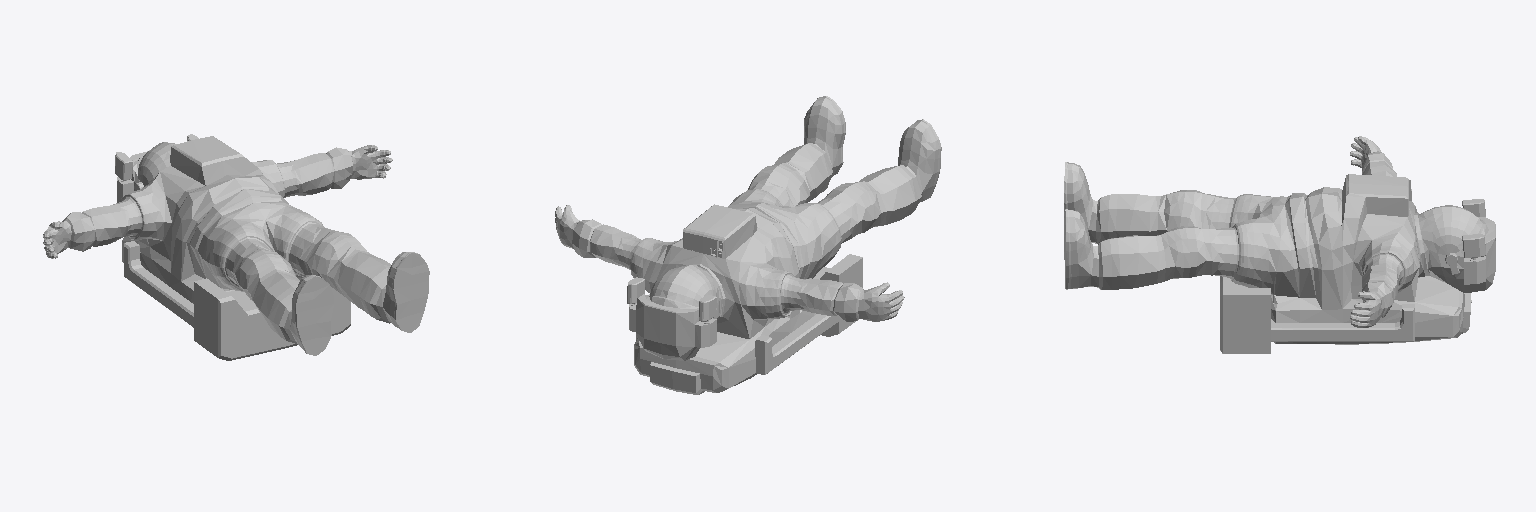
The model's file is astronaut.obj.
3 renders of one model, left to right at view 1: azimuth 30°, elevation 25°; view 2: azimuth 150°, elevation 25°; view 3: azimuth 270°, elevation 25°, orthographic.
Parts seen in each view (by area): view 1: astronaut1; view 2: astronaut1; view 3: astronaut1.
Boxes of the visible parts, box(x1,y1,x2,y2) form: astronaut1: box(43, 134, 429, 360); astronaut1: box(555, 96, 941, 394); astronaut1: box(1064, 136, 1495, 353).
Size of the model in its own units: 13.08 by 5.24 by 14.1.